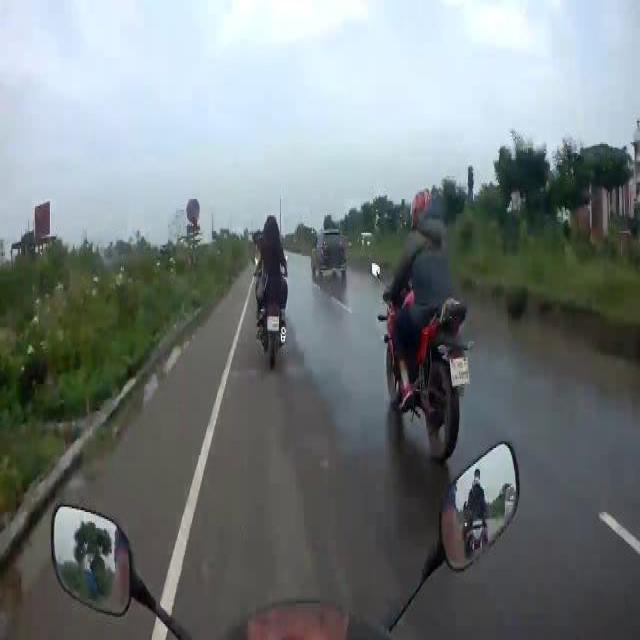bike: (366, 260, 472, 464), (251, 283, 290, 366)
vehicle: (309, 226, 351, 288)
